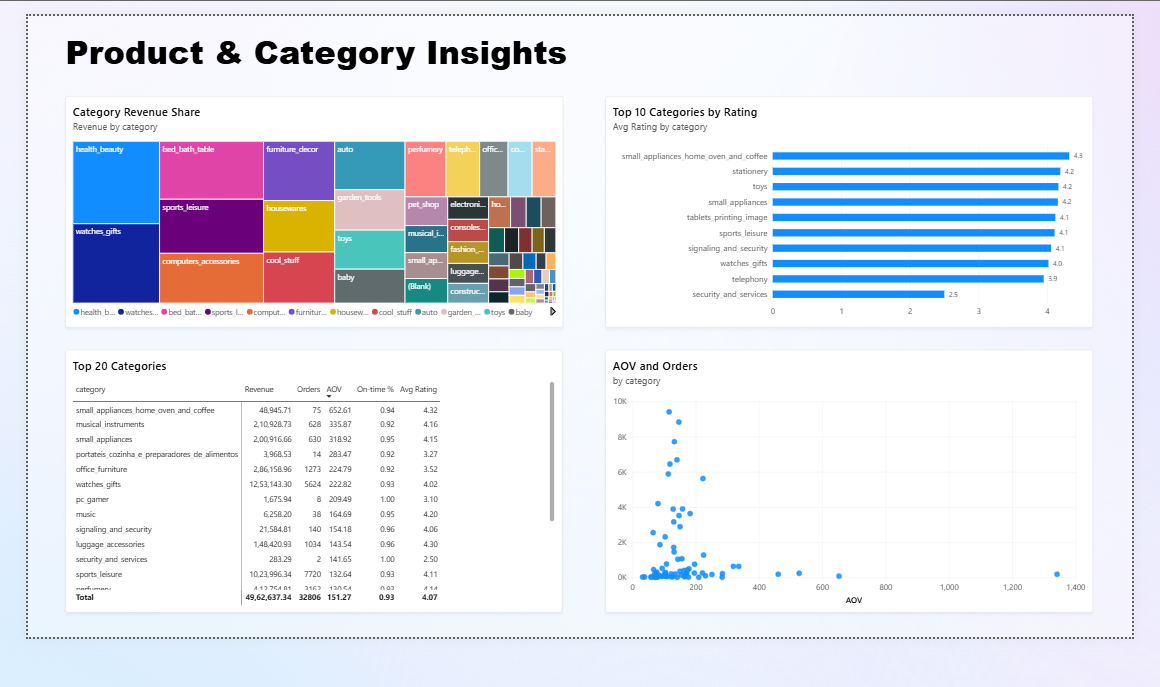

This screenshot's page, from the dashboard's own definition file:
{"tool":"powerbi","page":{"name":"Categories and Reports","canvas":[1920,1080],"ordinal":2},"visuals":[{"type":"treemap","title":"Category Revenue Share","fields":{"Group":["public bi_fact_sales.category"],"Values":["public bi_fact_sales.Revenue"]},"box":[65.9,138.6,865.9,402.3],"z":0},{"type":"scatterChart","fields":{"Category":["public bi_fact_sales.category"],"X":["public bi_fact_sales.AOV"],"Y":["public bi_fact_sales.Orders"]},"box":[1004.5,579.5,847.7,456.8],"z":1},{"type":"clusteredBarChart","title":"Top 10 Categories by Rating","fields":{"Category":["public bi_fact_sales.category"],"Y":["public bi_fact_sales.Avg Rating"]},"box":[1004.5,138.6,847.7,402.3],"z":2},{"type":"pivotTable","title":"Top 20 Categories","fields":{"Rows":["public bi_fact_sales.category"],"Values":["public bi_fact_sales.Revenue","public bi_fact_sales.Orders","public bi_fact_sales.AOV","public bi_fact_sales.On-time %","public bi_fact_sales.Avg Rating"]},"box":[65.9,579.5,863.6,456.8],"z":3},{"type":"textbox","box":[65.9,22.7,1786.4,93.2],"z":4}]}

Visuals, with their boxes on the page's 1920x1080 design canvas (x1, y1, x2, y2). These are canvas units, not pixel positions in the 1160x687 screenshot, which may show the page scaled, cropped or inside an application window:
"Category Revenue Share" treemap: [66, 139, 932, 541]
scatterChart - public bi_fact_sales.category x public bi_fact_sales.AOV: [1004, 580, 1852, 1036]
"Top 10 Categories by Rating" clusteredBarChart: [1004, 139, 1852, 541]
"Top 20 Categories" pivotTable: [66, 580, 930, 1036]
textbox: [66, 23, 1852, 116]
